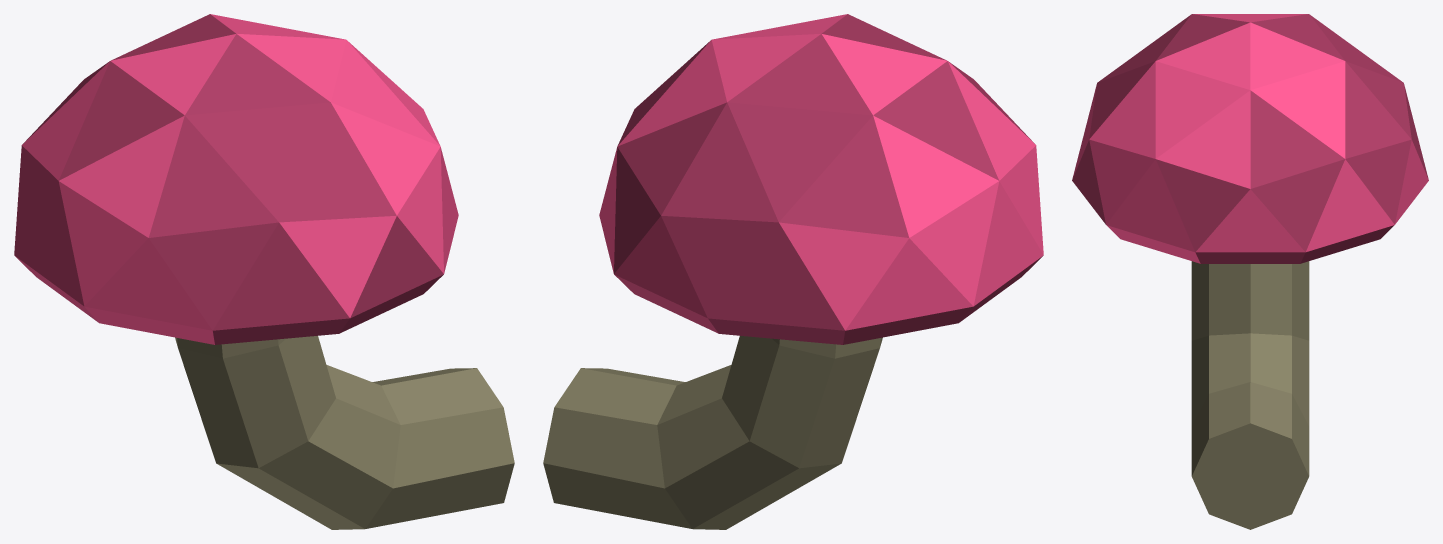
The model's file is Mushroom_5_Pink.fbx.
3 renders of one model, left to right at view 1: azimuth 30°, elevation 25°; view 2: azimuth 150°, elevation 25°; view 3: azimuth 270°, elevation 25°, orthographic. The views are drawn at different scales.
Visible parts, largest first — view 1: Mushroom_5_Pink; view 2: Mushroom_5_Pink; view 3: Mushroom_5_Pink.
Part boxes in pixels (x1,y1,x2,y2): Mushroom_5_Pink: [14, 14, 514, 529]; Mushroom_5_Pink: [543, 14, 1043, 529]; Mushroom_5_Pink: [1072, 14, 1428, 529].
Size of the model in its own units: 33.07 by 39 by 30.39.
